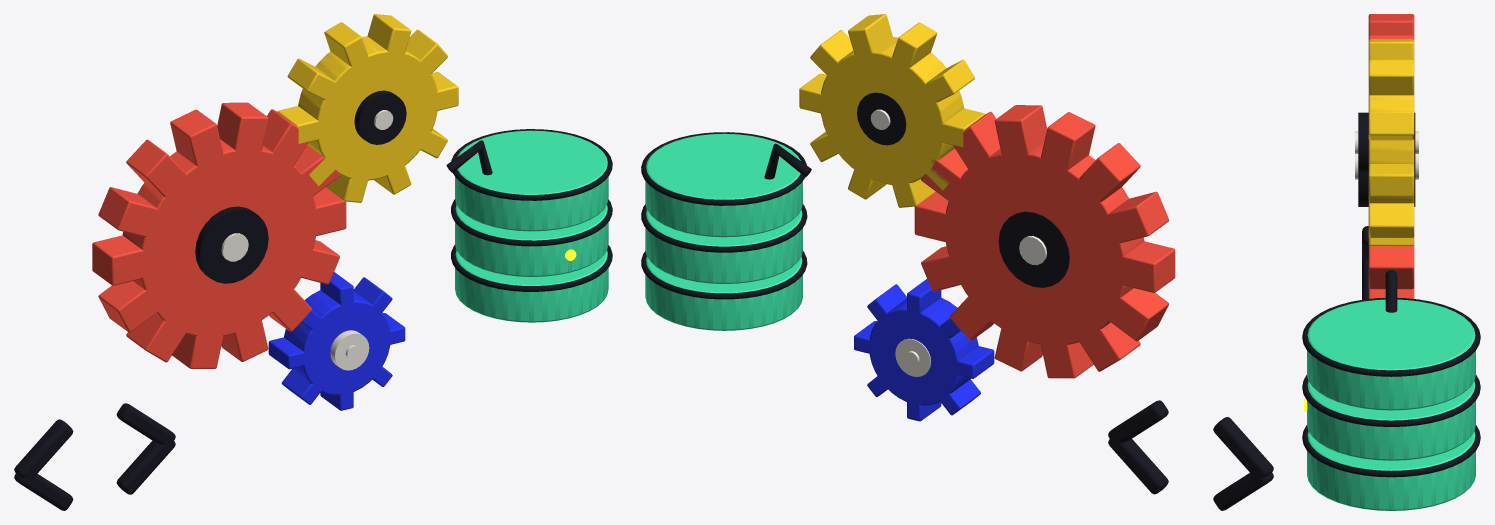
Rendered from gears.glb.
3 renders of one model, left to right at view 1: azimuth 30°, elevation 25°; view 2: azimuth 150°, elevation 25°; view 3: azimuth 270°, elevation 25°, orthographic. The views are drawn at different scales.
Visible parts, largest first — view 1: roll_a, db, rolln_b, rolln_c, bob_xml, pipe; view 2: roll_a, db, rolln_b, rolln_c, bob_xml, pipe; view 3: db, rolln_b, roll_a, pipe, bob_xml.
Part boxes in pixels (x1,y1,x2,y2): roll_a: [92, 102, 346, 368]; db: [451, 129, 612, 322]; rolln_b: [277, 14, 458, 202]; rolln_c: [268, 272, 405, 410]; bob_xml: [14, 403, 175, 510]; pipe: [446, 140, 492, 175]; roll_a: [914, 105, 1175, 378]; db: [641, 132, 807, 330]; rolln_b: [799, 14, 985, 207]; rolln_c: [854, 279, 994, 421]; bob_xml: [1108, 400, 1273, 510]; pipe: [764, 143, 811, 179]; db: [1302, 297, 1480, 510]; rolln_b: [1355, 39, 1418, 246]; roll_a: [1355, 14, 1418, 298]; pipe: [1385, 270, 1397, 312]; bob_xml: [1362, 226, 1368, 299].
Bounding box in the file's own units: 11.59 × 7.47 × 2.74.
